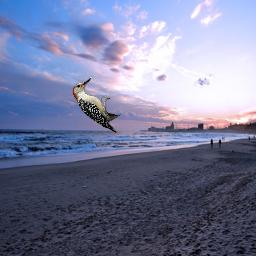Woodpecker: (72, 77, 121, 133)
